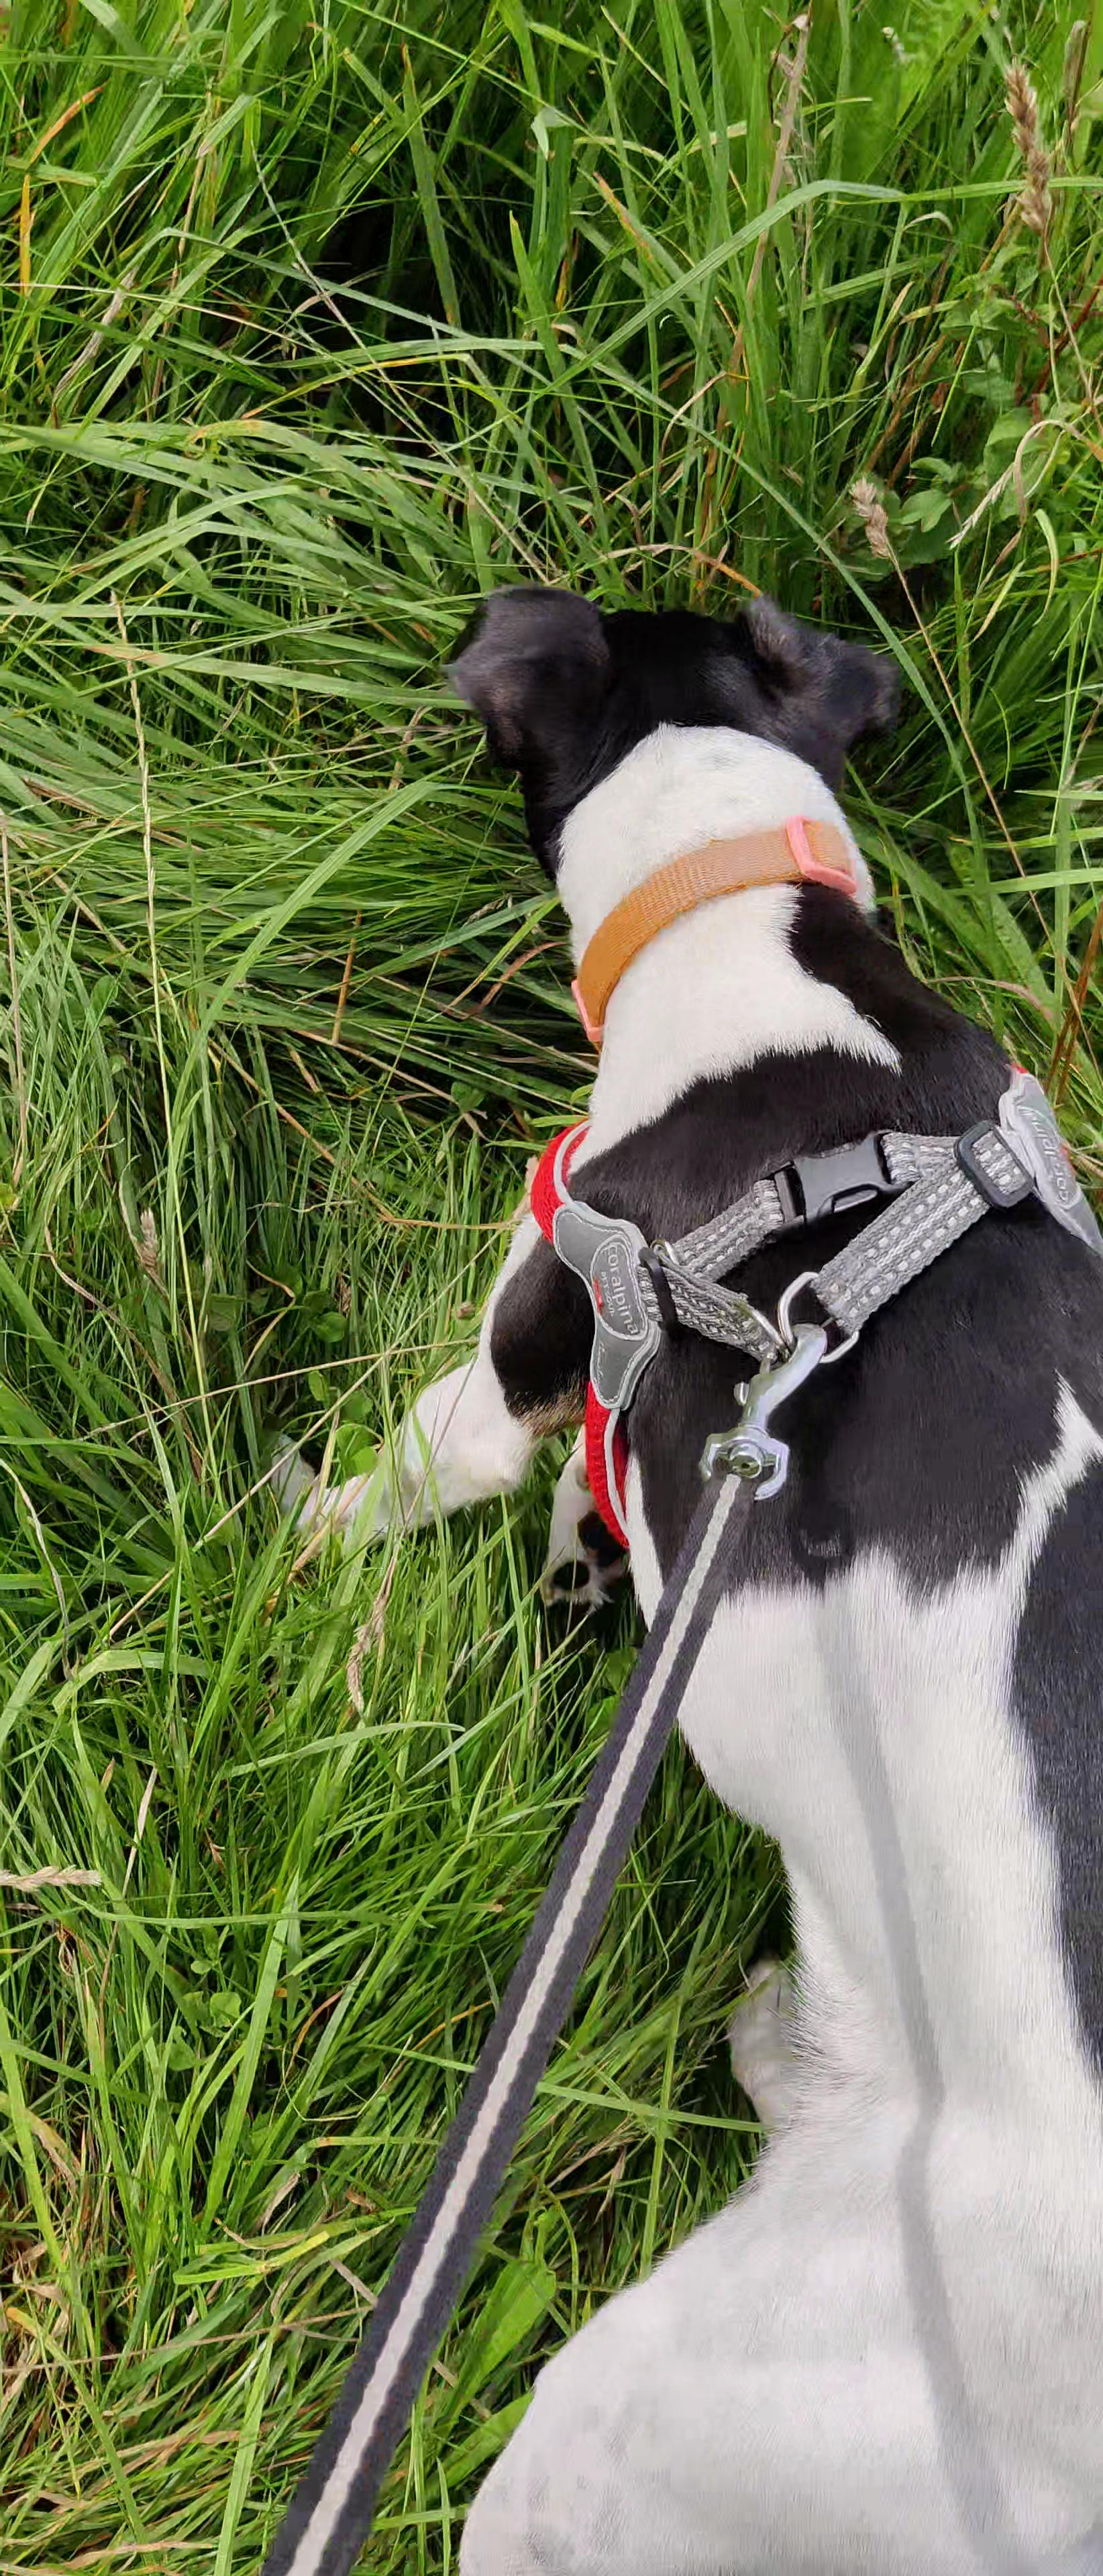Dog: (225, 498, 1103, 2576)
